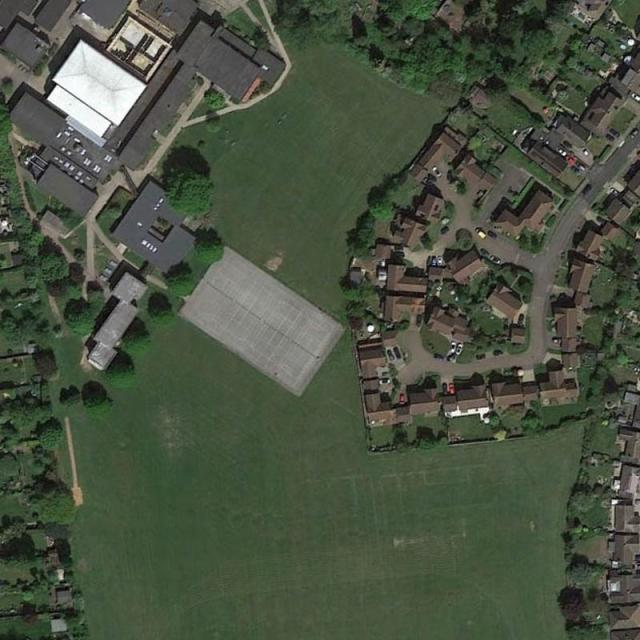vehicle: (474, 229, 486, 241), (392, 346, 402, 360), (487, 230, 498, 240), (629, 129, 639, 139), (630, 92, 640, 102), (432, 167, 441, 178), (570, 166, 580, 175), (494, 350, 505, 358), (387, 350, 394, 362), (609, 186, 618, 195), (583, 186, 592, 195), (566, 154, 574, 164), (608, 129, 618, 137), (449, 382, 455, 395), (434, 354, 445, 361), (490, 256, 501, 263), (399, 394, 405, 406), (442, 382, 448, 394), (456, 344, 462, 356), (480, 249, 488, 258), (576, 162, 584, 171), (417, 313, 422, 326), (558, 148, 566, 156), (563, 140, 572, 147), (582, 148, 589, 157), (477, 354, 486, 361), (553, 338, 563, 344), (441, 226, 448, 234), (379, 379, 390, 384), (437, 256, 442, 267), (451, 341, 455, 353), (605, 134, 614, 139), (448, 355, 455, 361), (432, 256, 436, 265)
